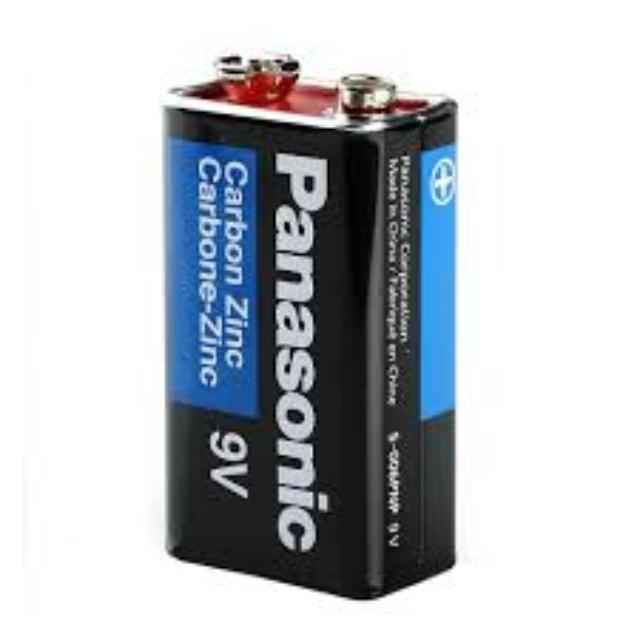Battery: (159, 57, 458, 603)
